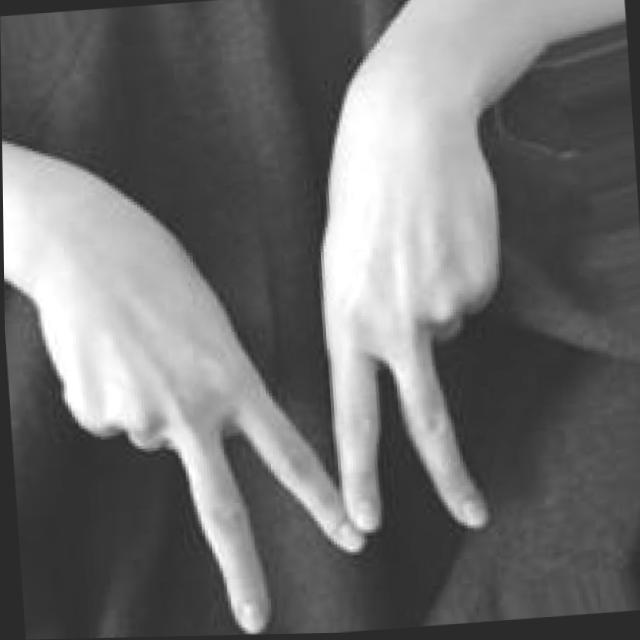M: (28, 164, 529, 639)
